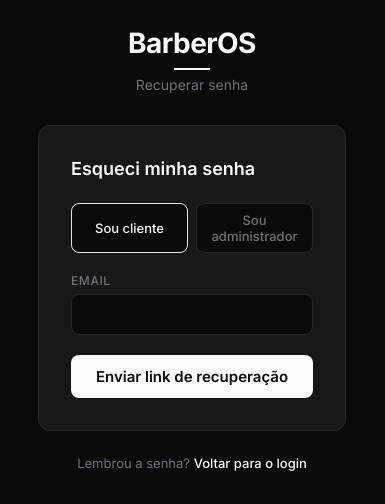
Test: RecuperarSenha › envia solicitação para cliente por padrão e mostra mensagem genérica
Type "cliente@teste.com" into the field labelled "Email" at (192, 314), box top-left (71, 294), bottom-right (313, 334)
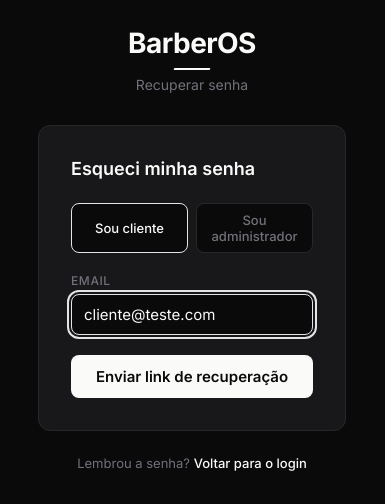
Click the button "Enviar link de recuperação" at (192, 376), box top-left (71, 354), bottom-right (313, 398)
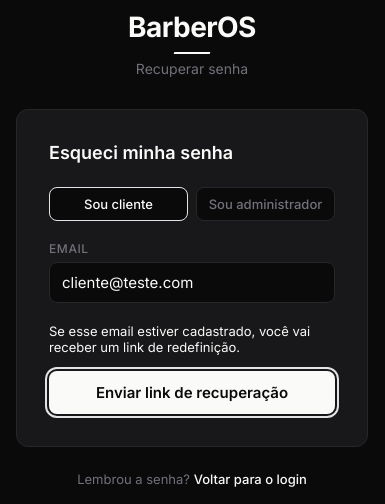
Check: the text "Se esse email estiver cadastrado, você vai receber um link de redefinição." is shown, box top-left (49, 322), bottom-right (335, 354)
